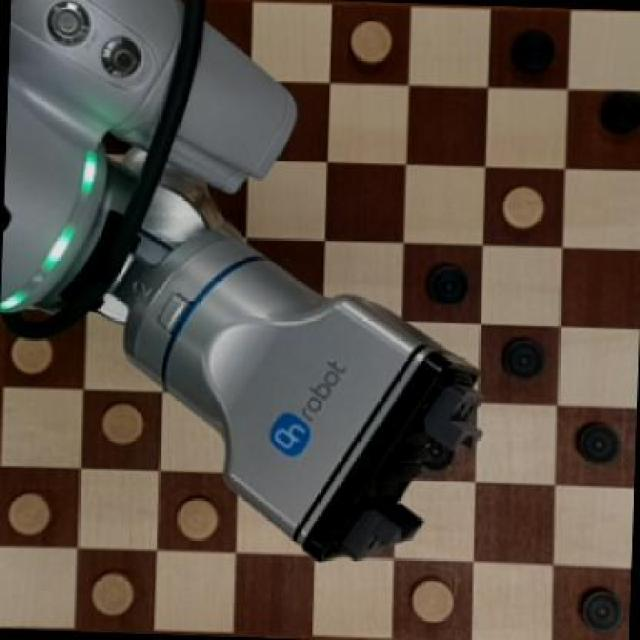black: (492, 326, 550, 388), (418, 254, 472, 318), (570, 417, 625, 470), (573, 581, 625, 636), (588, 84, 637, 139), (506, 22, 555, 73)
white: (406, 568, 464, 627), (85, 566, 140, 624), (345, 11, 398, 68), (171, 490, 223, 548), (98, 396, 148, 456), (1, 489, 54, 544), (10, 329, 62, 381), (499, 178, 544, 234)
